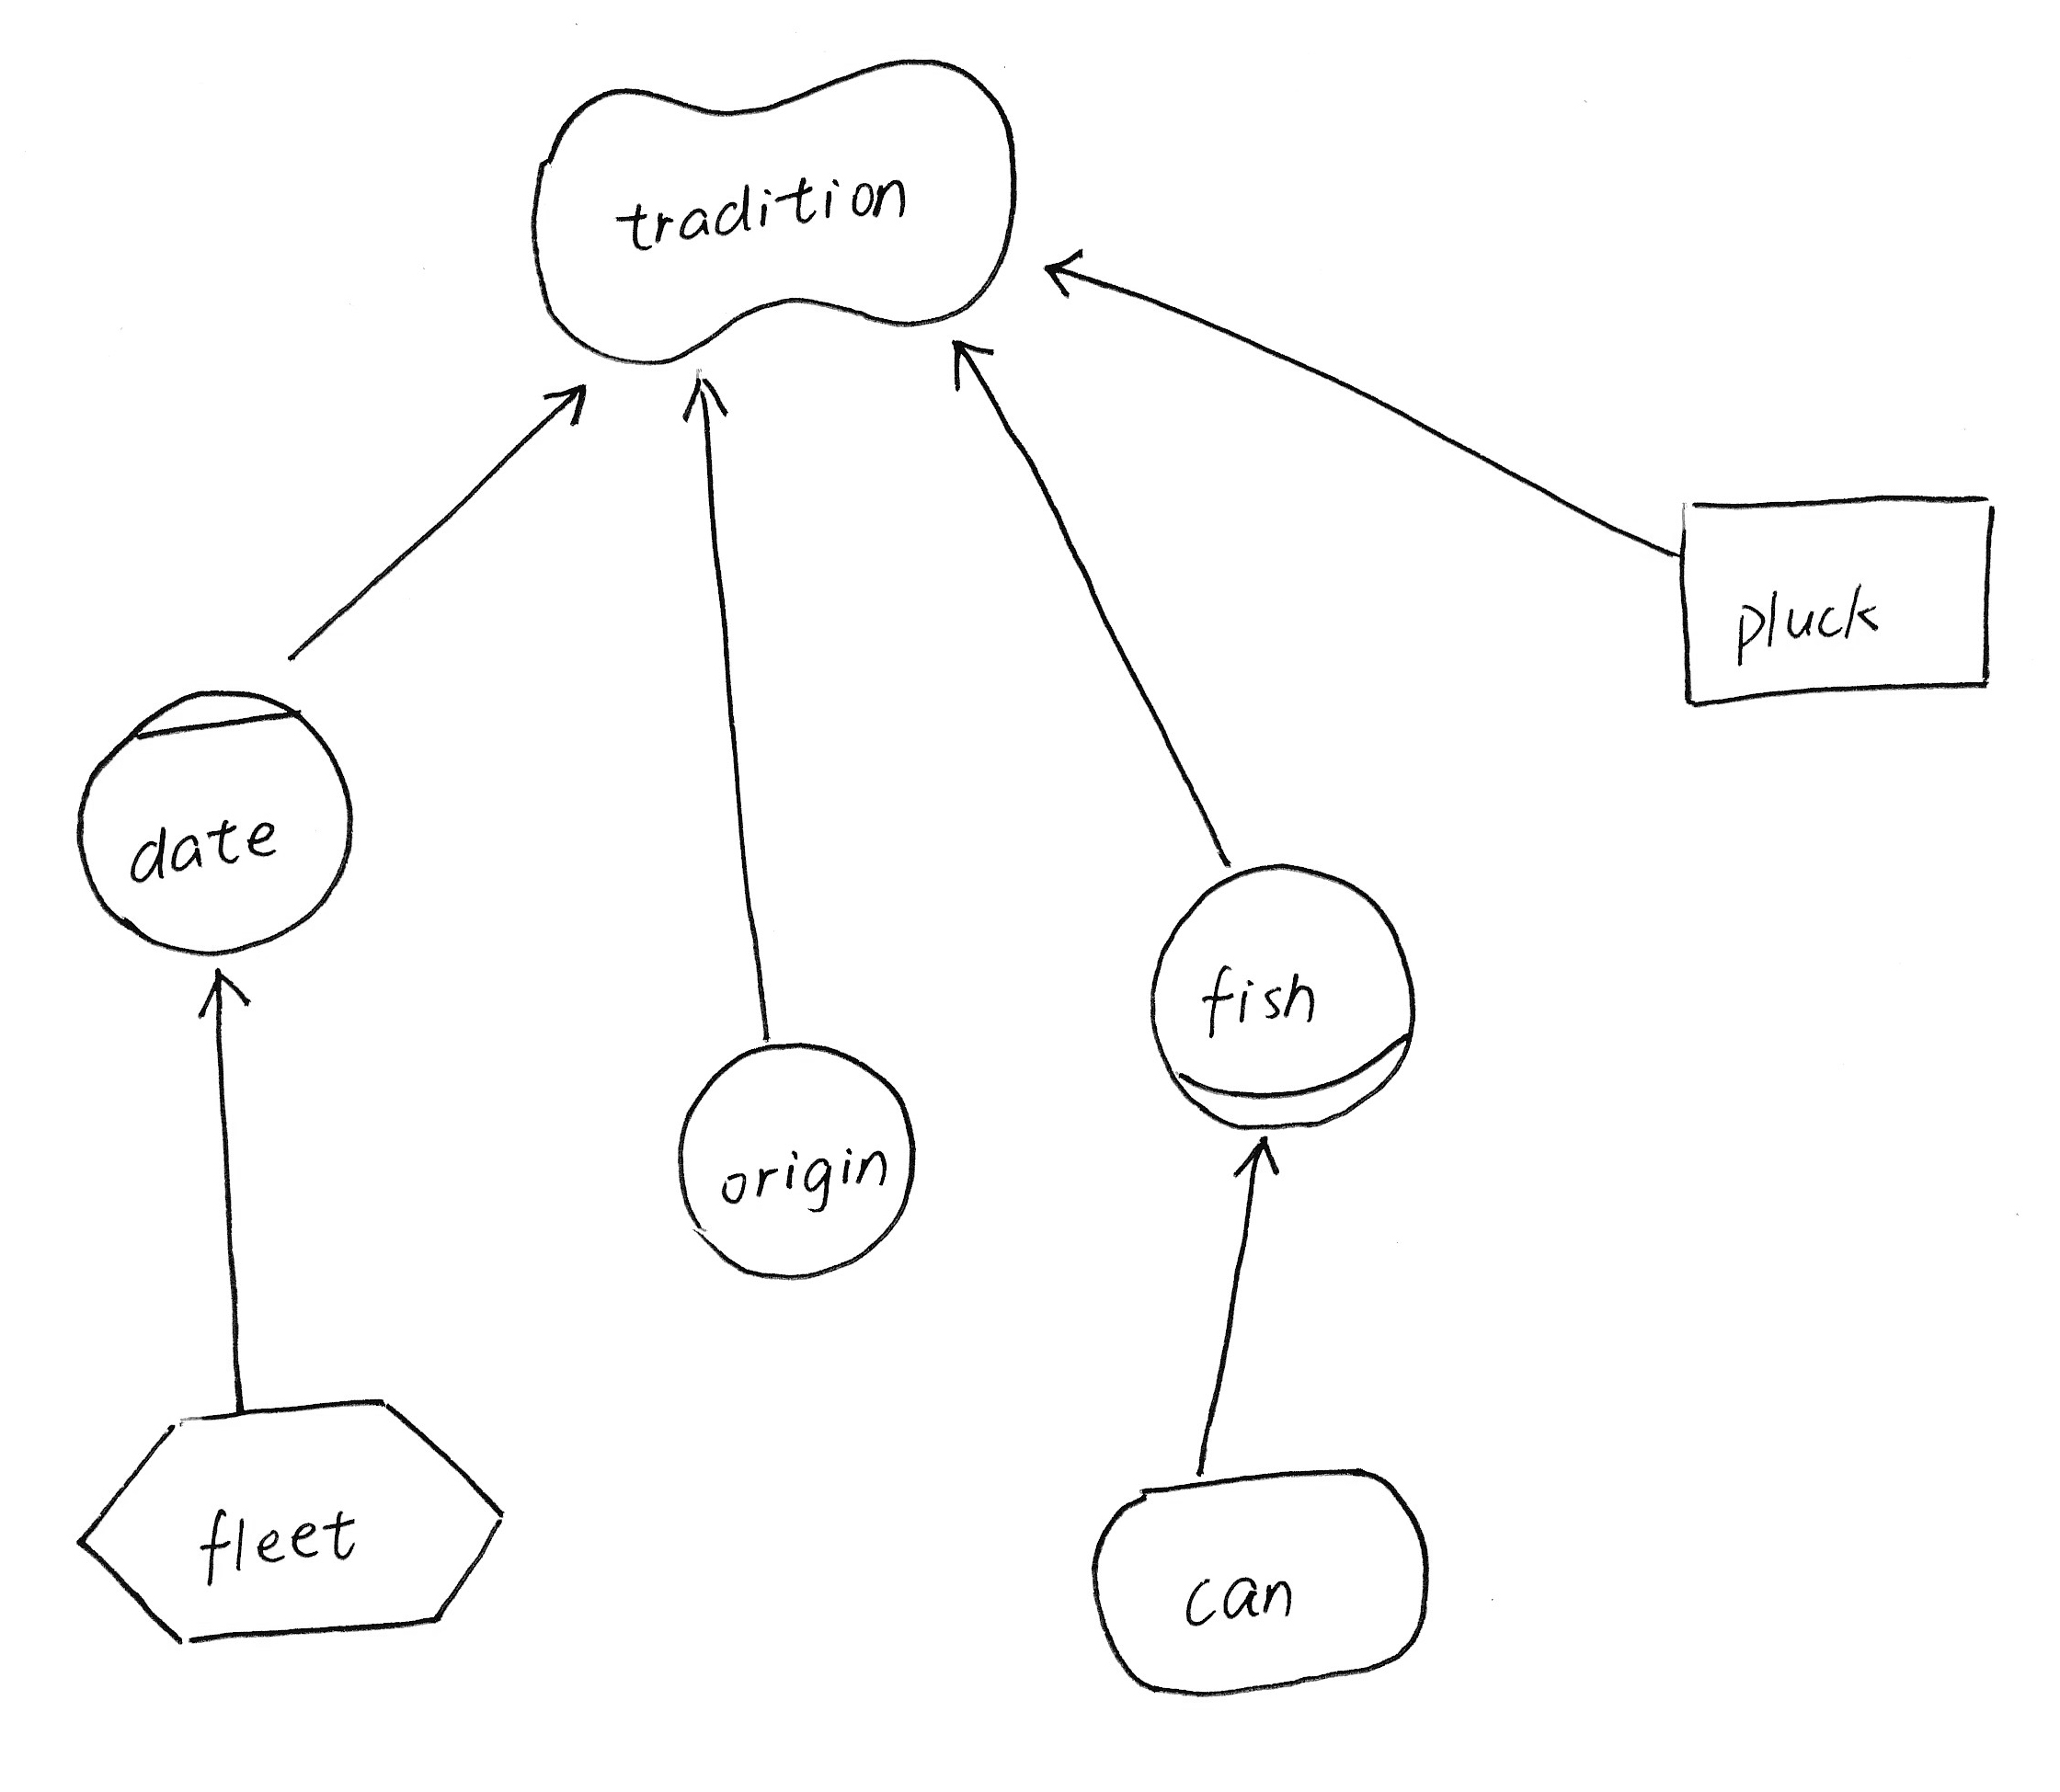actor: (664, 1023, 935, 1295)
agent: (56, 671, 373, 974)
arrow: (1221, 1116, 1298, 1198), (1026, 235, 1111, 308), (177, 953, 252, 1032), (932, 324, 1005, 405), (673, 356, 739, 440), (533, 373, 594, 434)
goal: (1070, 1452, 1452, 1708)
quality: (515, 40, 1051, 382)
resource: (1659, 471, 2020, 723)
role: (1132, 846, 1436, 1151)
task: (60, 1377, 524, 1661)
